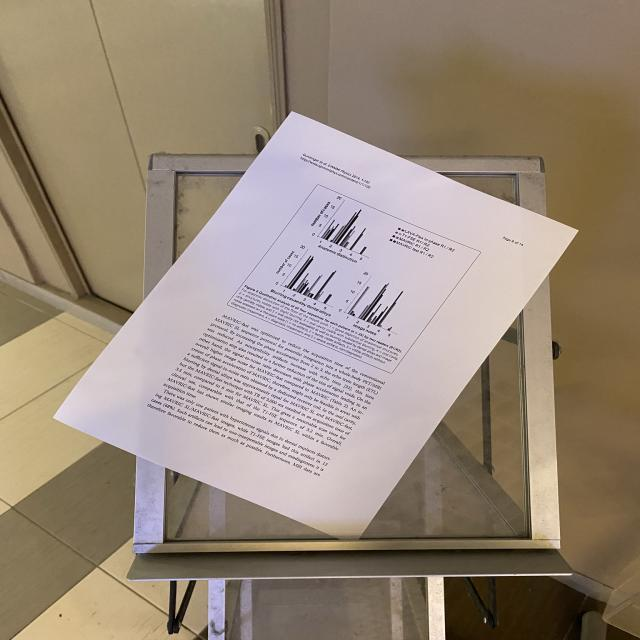document: (57, 114, 577, 539)
